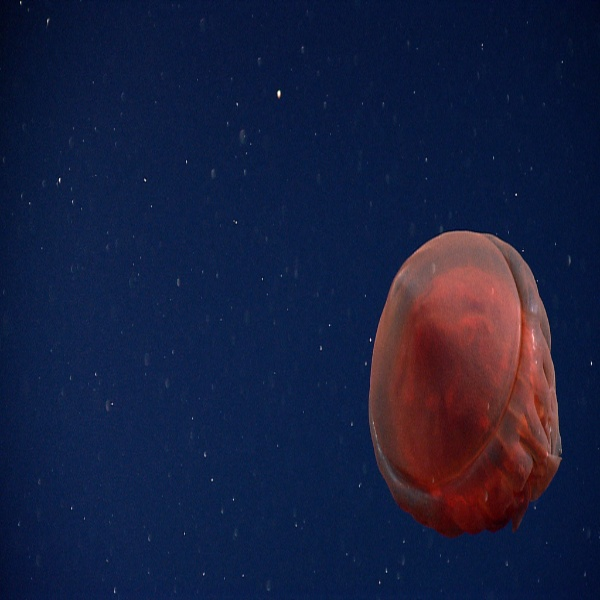Jellyfish: (388, 215, 580, 536)
